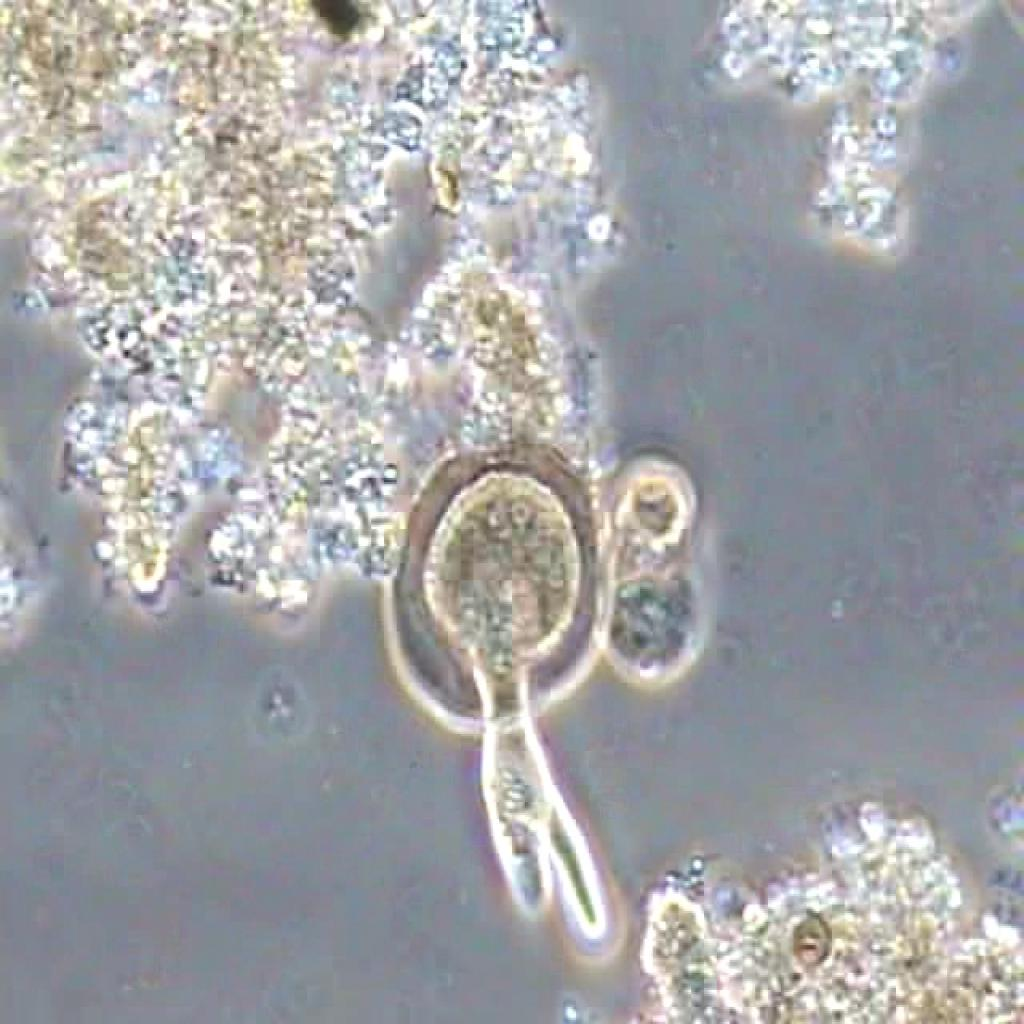Arcella: (380, 429, 630, 958)
